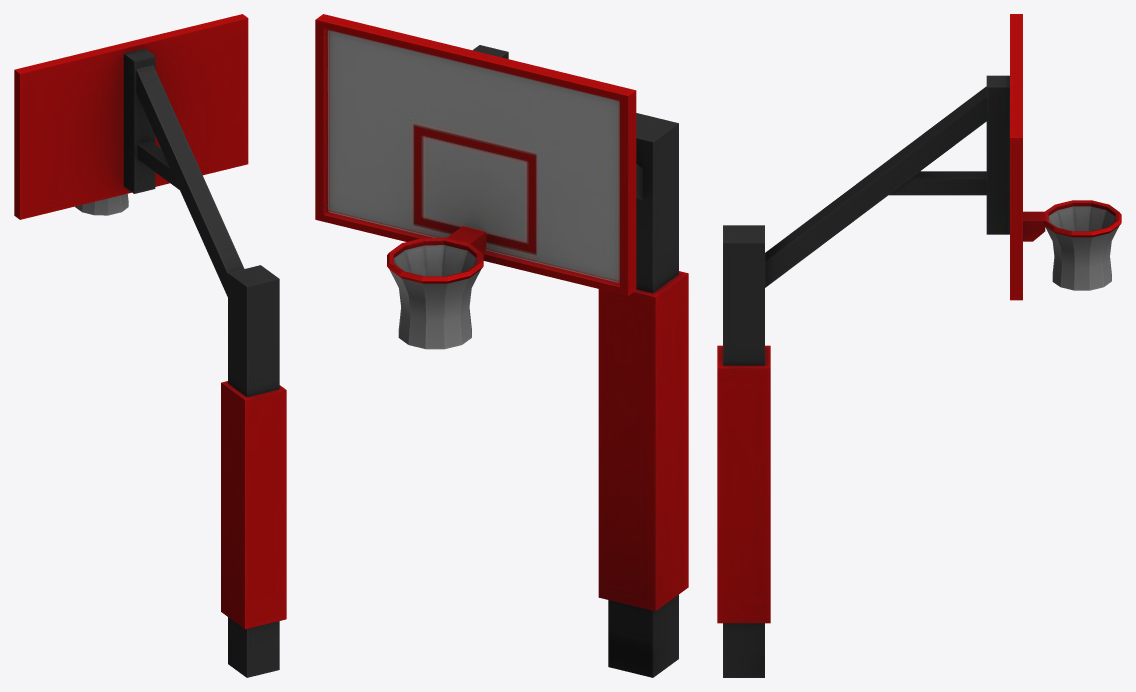
Rendered from basketball_hoop.glb.
3 renders of one model, left to right at view 1: azimuth 30°, elevation 25°; view 2: azimuth 150°, elevation 25°; view 3: azimuth 270°, elevation 25°, orthographic. The views are drawn at different scales.
Visible parts, largest first — view 1: BasketballHoop; view 2: BasketballHoop; view 3: BasketballHoop.
Part boxes in pixels (box(x1,y1,x2,y2)): BasketballHoop: box(14, 14, 286, 677); BasketballHoop: box(315, 14, 688, 677); BasketballHoop: box(717, 14, 1121, 677).
Bounding box in the file's own units: 1.8 × 4.02 × 2.48.
Materials: 1 (1 with a texture image).
